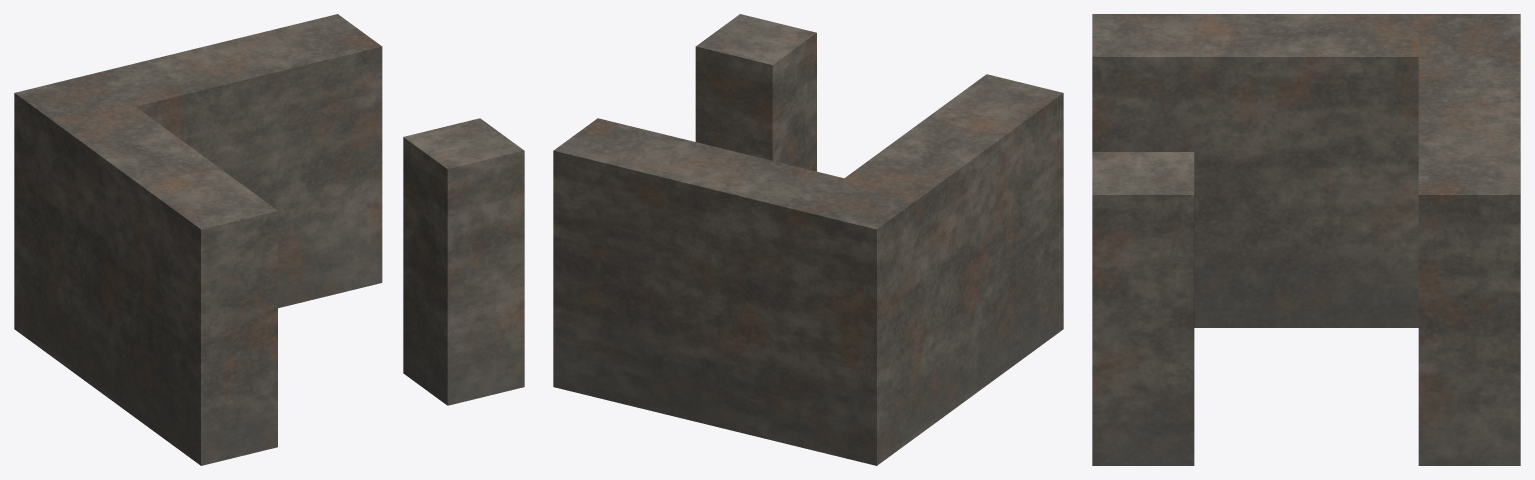
Rendered from dungeon_cave_corner_rise.glb.
3 views of the same model, side by side, from view 1: azimuth 30°, elevation 25°; view 2: azimuth 150°, elevation 25°; view 3: azimuth 270°, elevation 25° (orthographic). The views are drawn at different scales.
Visible parts, largest first — view 1: dungeon_cave_corner_rise; view 2: dungeon_cave_corner_rise; view 3: dungeon_cave_corner_rise.
Boxes of the visible parts, box(x1,y1,x2,y2) form: dungeon_cave_corner_rise: box(14, 14, 524, 465); dungeon_cave_corner_rise: box(553, 14, 1063, 465); dungeon_cave_corner_rise: box(1092, 14, 1520, 465).
Size of the model in its own units: 5 by 3.5 by 5.
Materials: 1 (1 with a texture image).
